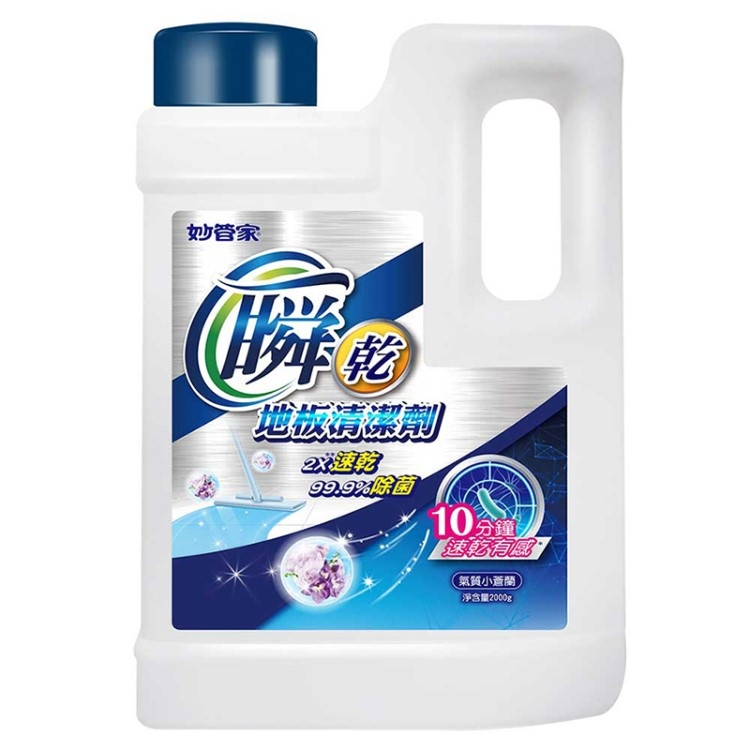cleaner: (133, 16, 653, 736)
